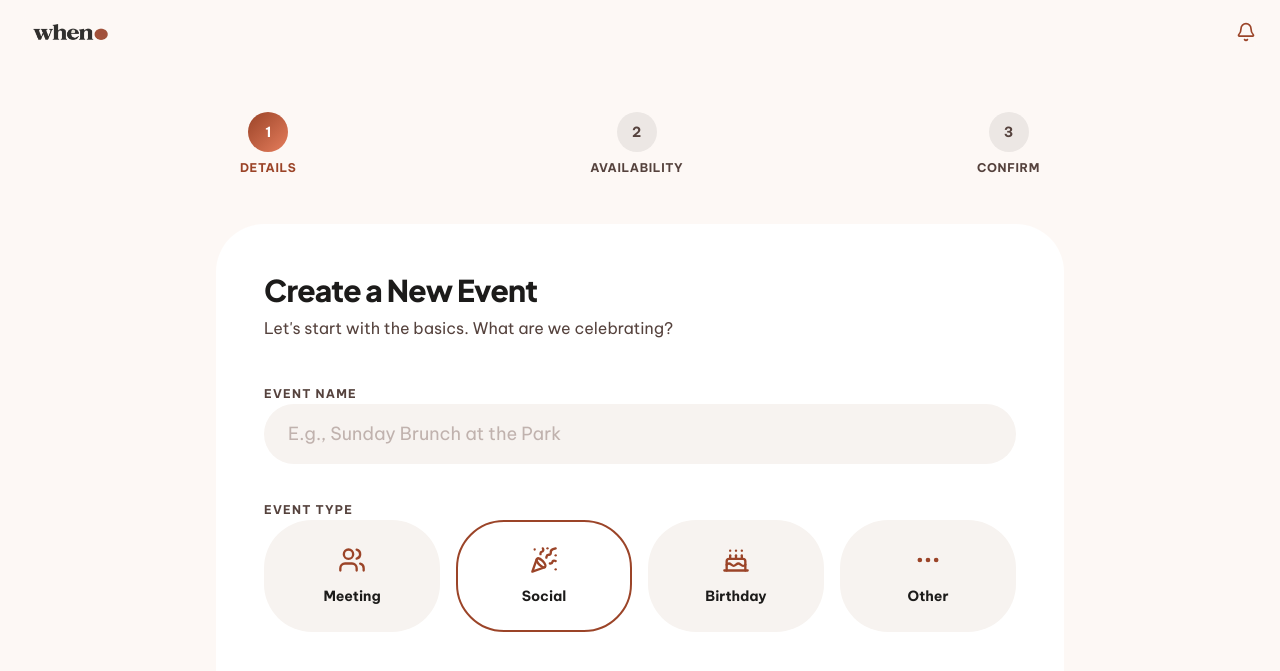
Test: CreateEventForm (NewEventPage) › advances to step 2 after filling step 1
# Fill event name
Type "Test Event" into the field with placeholder "E.g., Sunday Brunch at the Park". click: (640, 434)
box: [264,404,1016,464]
(page scrolled)
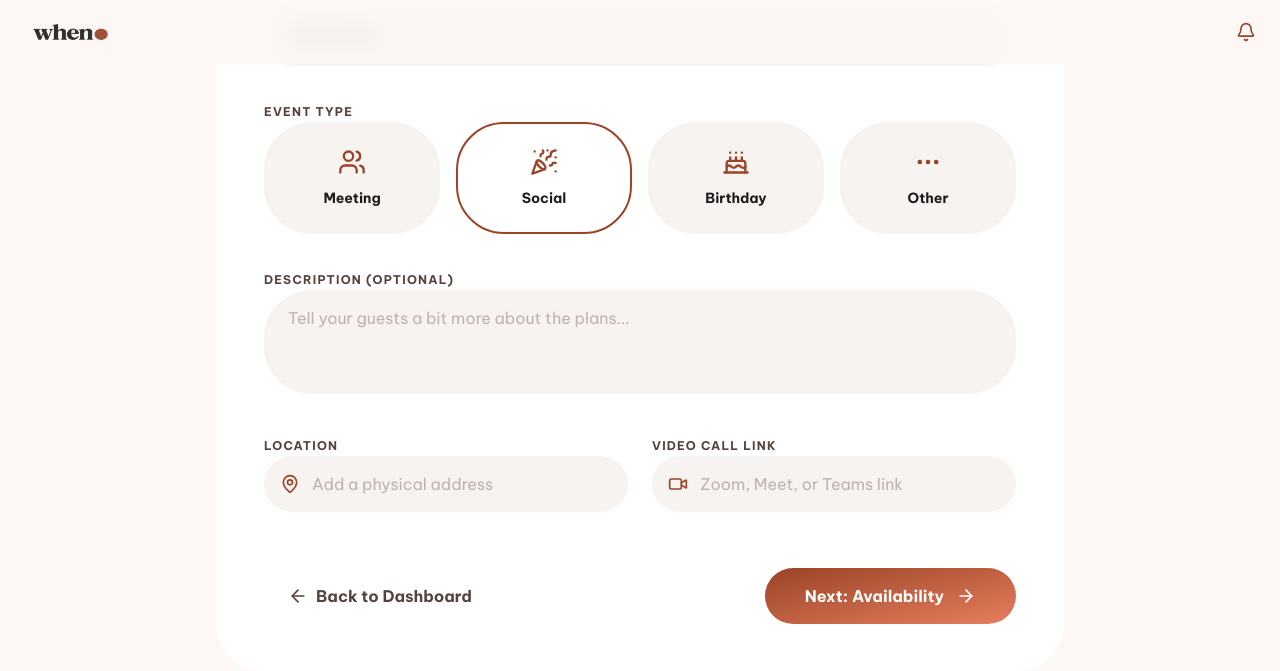
# Submit step 1
Click the button "Next: Availability". click: (890, 596)
box: [765,568,1016,624]
(page scrolled)
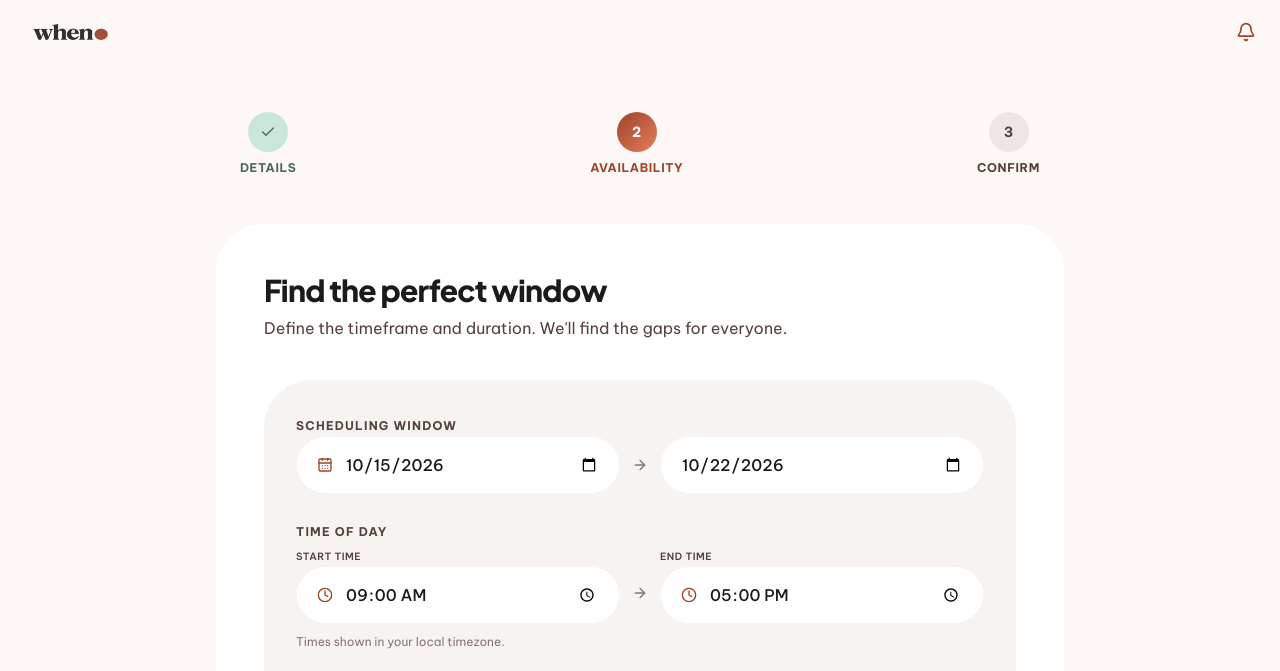
Result: the heading "Find the perfect window" is shown at [264,271,607,309]
